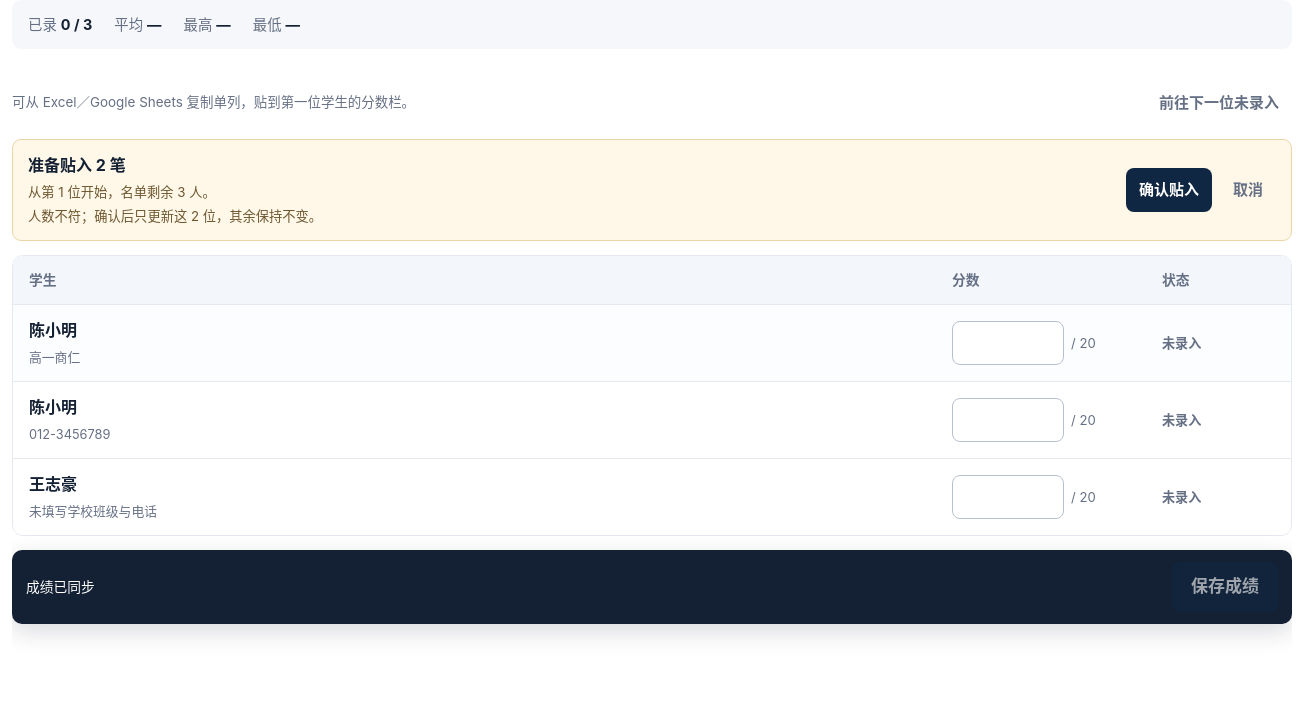
Test: GradeEntryTable › shows quiz input percentages without changing raw save payload, Enter or unsaved semantics
The image size is (1304, 720).
Expected: the text "%" is not shown
Click the button "确认贴入" at [1169, 190], box top-left (1126, 168), bottom-right (1212, 212)
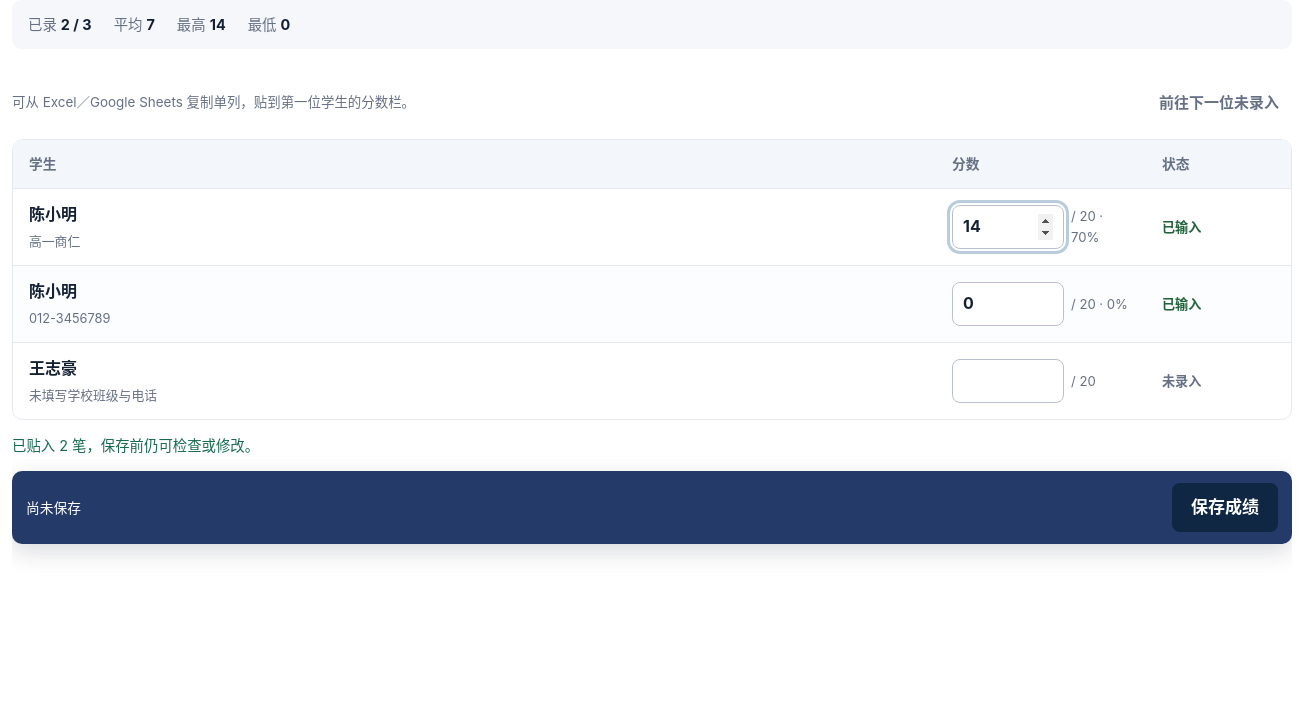
Expected: the text "/ 20 · 70%" is shown, top-left (1071, 208), bottom-right (1103, 245)
Expected: the text "/ 20 · 0%" is shown, top-left (1071, 294), bottom-right (1130, 315)
Expected: the text "尚未保存" is shown, top-left (26, 497), bottom-right (81, 519)
Press Enter in the number field labelled "/ 20 · 70%", box top-left (952, 205), bottom-right (1064, 249)
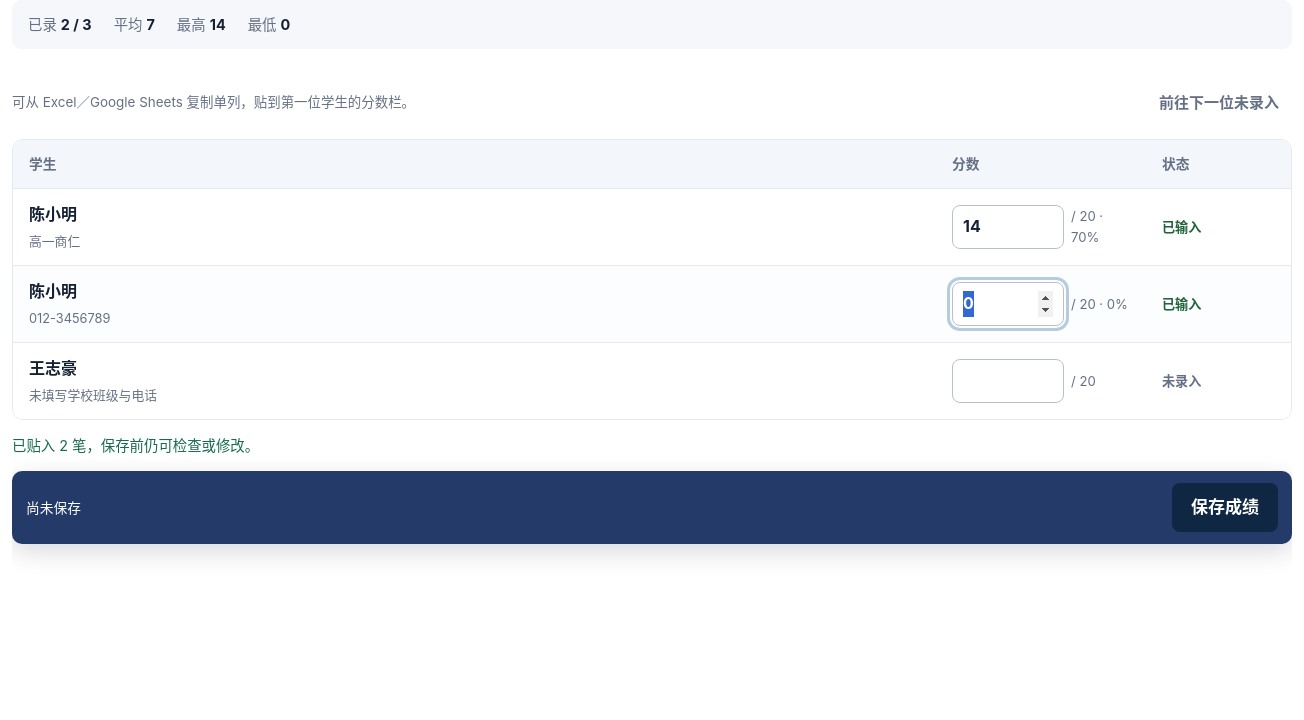
Replace the text in the number field labelled "/ 20 · 70%" with "21" at [1008, 227], box top-left (952, 205), bottom-right (1064, 249)
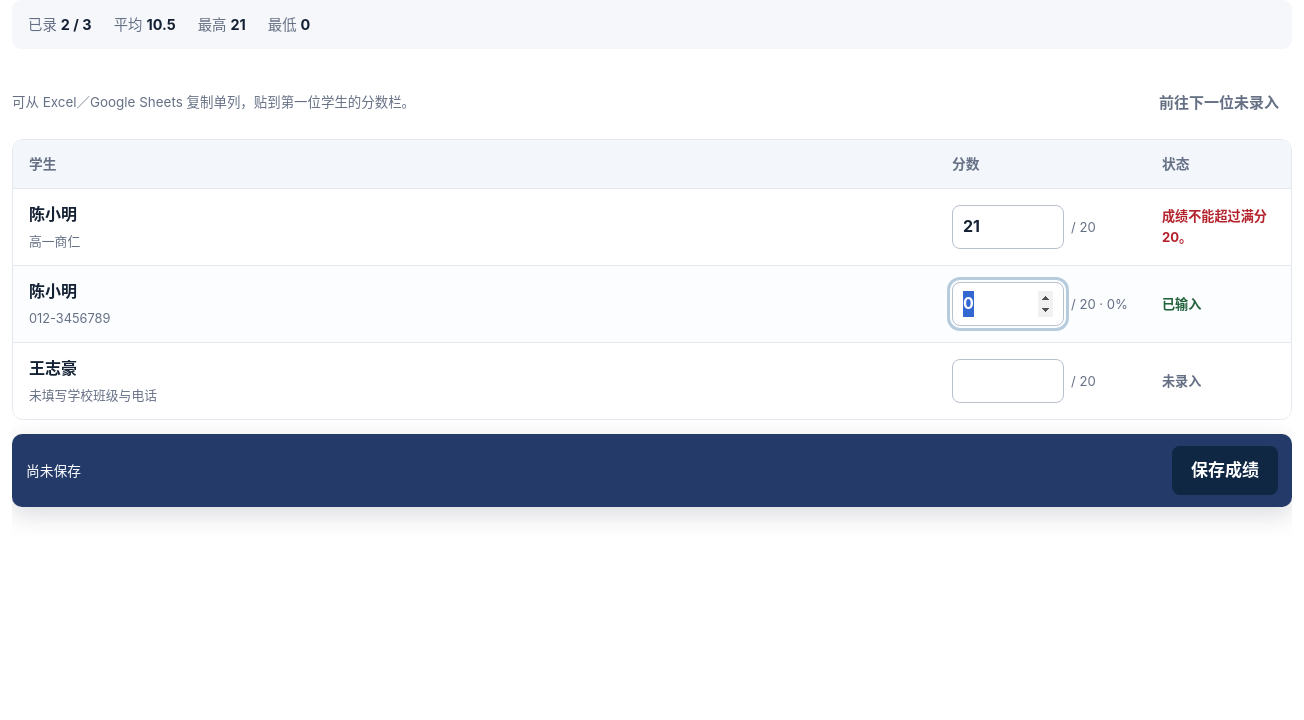
Expected: the number field labelled "/ 20" in the row of "高一商仁" is marked as invalid
Replace the text in the number field labelled "/ 20" in the row of "高一商仁" with "14" at [1008, 227], box top-left (952, 205), bottom-right (1064, 249)
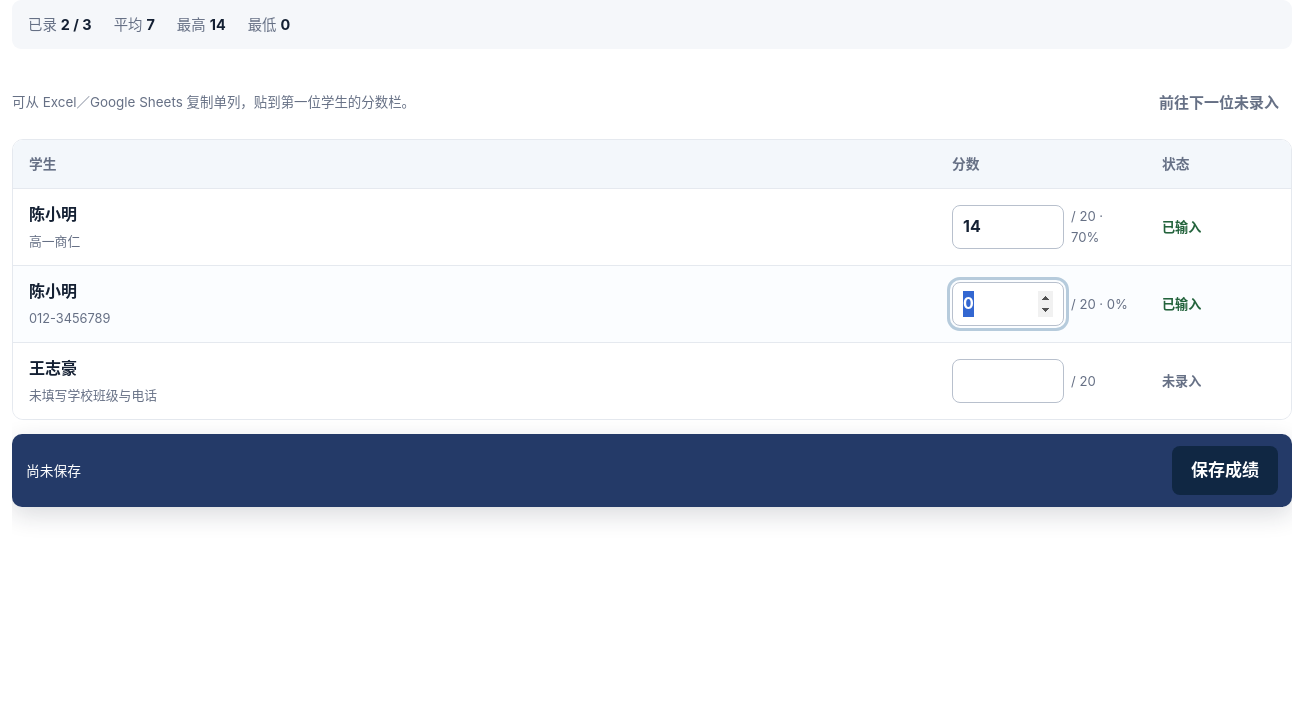
Click the button "保存成绩" at [1225, 471], box top-left (1172, 446), bottom-right (1278, 496)
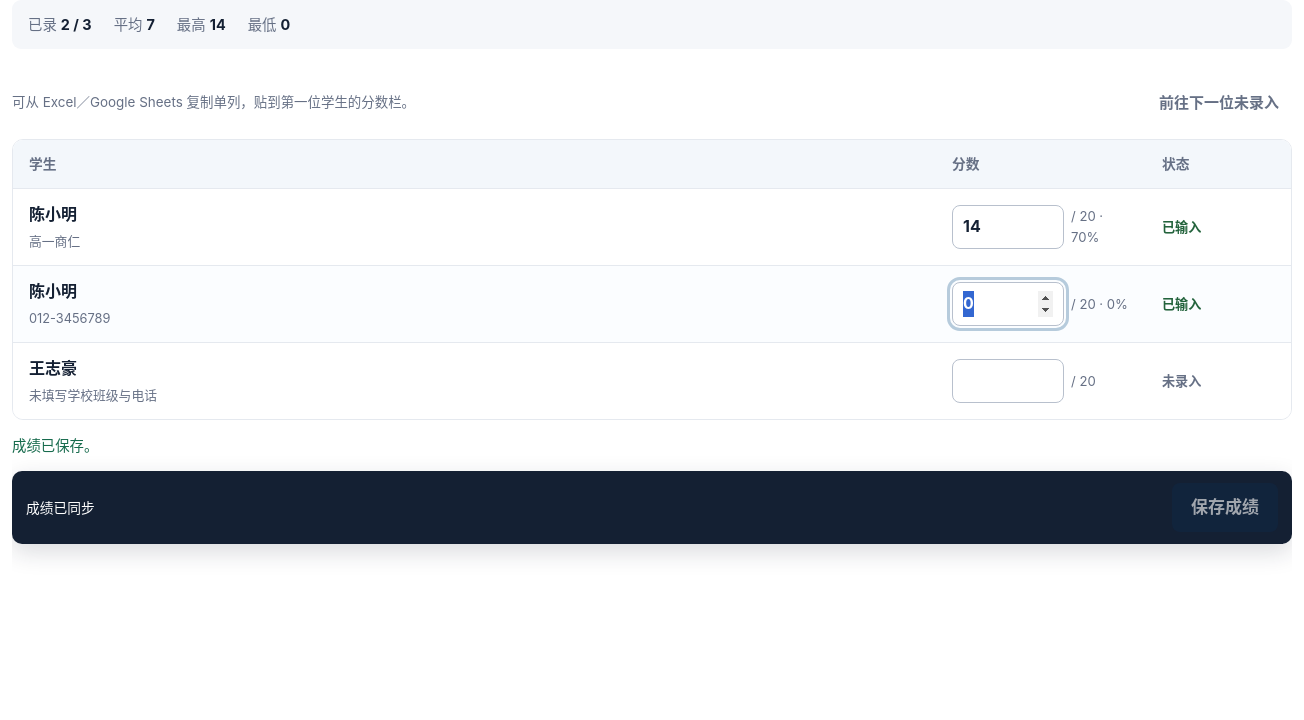
Expected: the text "成绩已保存。" is shown, top-left (12, 437), bottom-right (98, 454)
